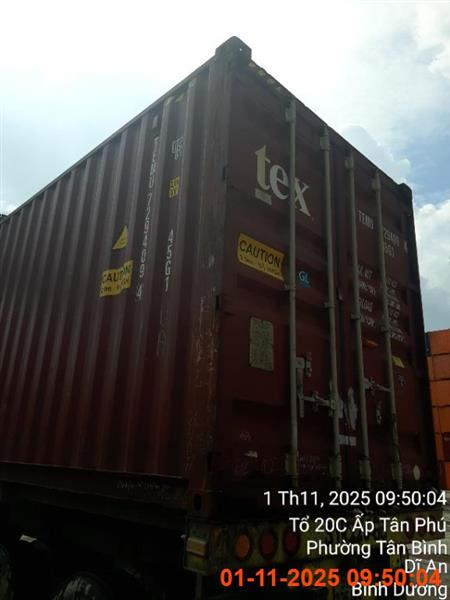hole: (0, 36, 446, 599)
